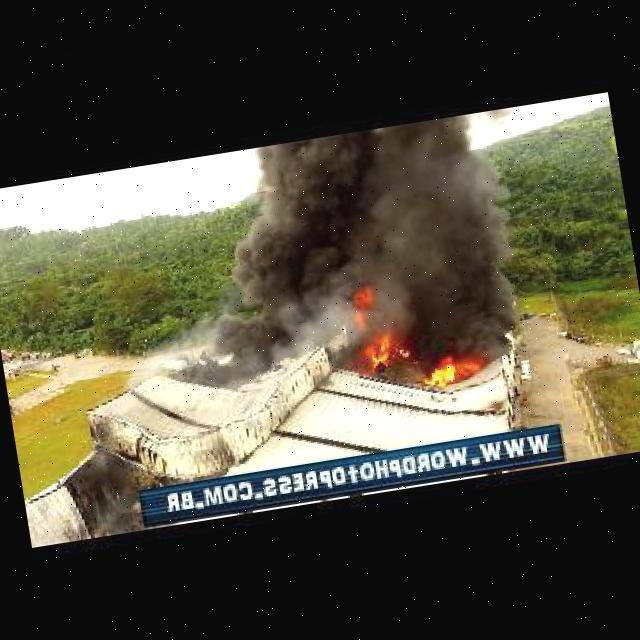Fire: (417, 347, 490, 393), (359, 329, 410, 372), (350, 286, 379, 335)
Smoke: (156, 137, 358, 379), (361, 110, 532, 360)
